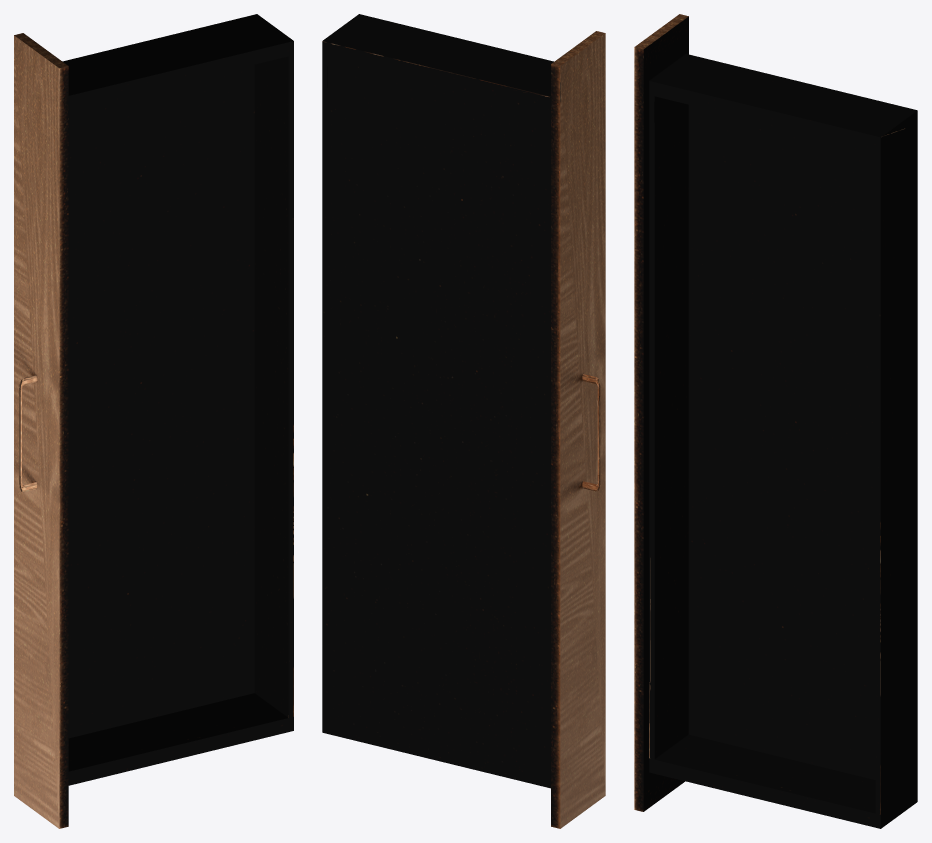
File: free_13_cabinet_floor_dof_rootd_Aa004_t_z_up.obj
The picture shows the model from 3 angles, left to right: view 1: azimuth 30°, elevation 25°; view 2: azimuth 150°, elevation 25°; view 3: azimuth 330°, elevation 25°; orthographic projection.
Parts seen in each view (by area): view 1: free_13_cabinet_floor_dof_rootd_Aa004_t; view 2: free_13_cabinet_floor_dof_rootd_Aa004_t; view 3: free_13_cabinet_floor_dof_rootd_Aa004_t.
Boxes of the visible parts, left/top/right/bottom form: free_13_cabinet_floor_dof_rootd_Aa004_t: left=14, top=14, right=293, bottom=828; free_13_cabinet_floor_dof_rootd_Aa004_t: left=322, top=14, right=605, bottom=828; free_13_cabinet_floor_dof_rootd_Aa004_t: left=634, top=14, right=917, bottom=828.
Bounding box in the file's own units: 0.582 × 1.64 × 0.1772.
Materials: 1 (1 with a texture image).
